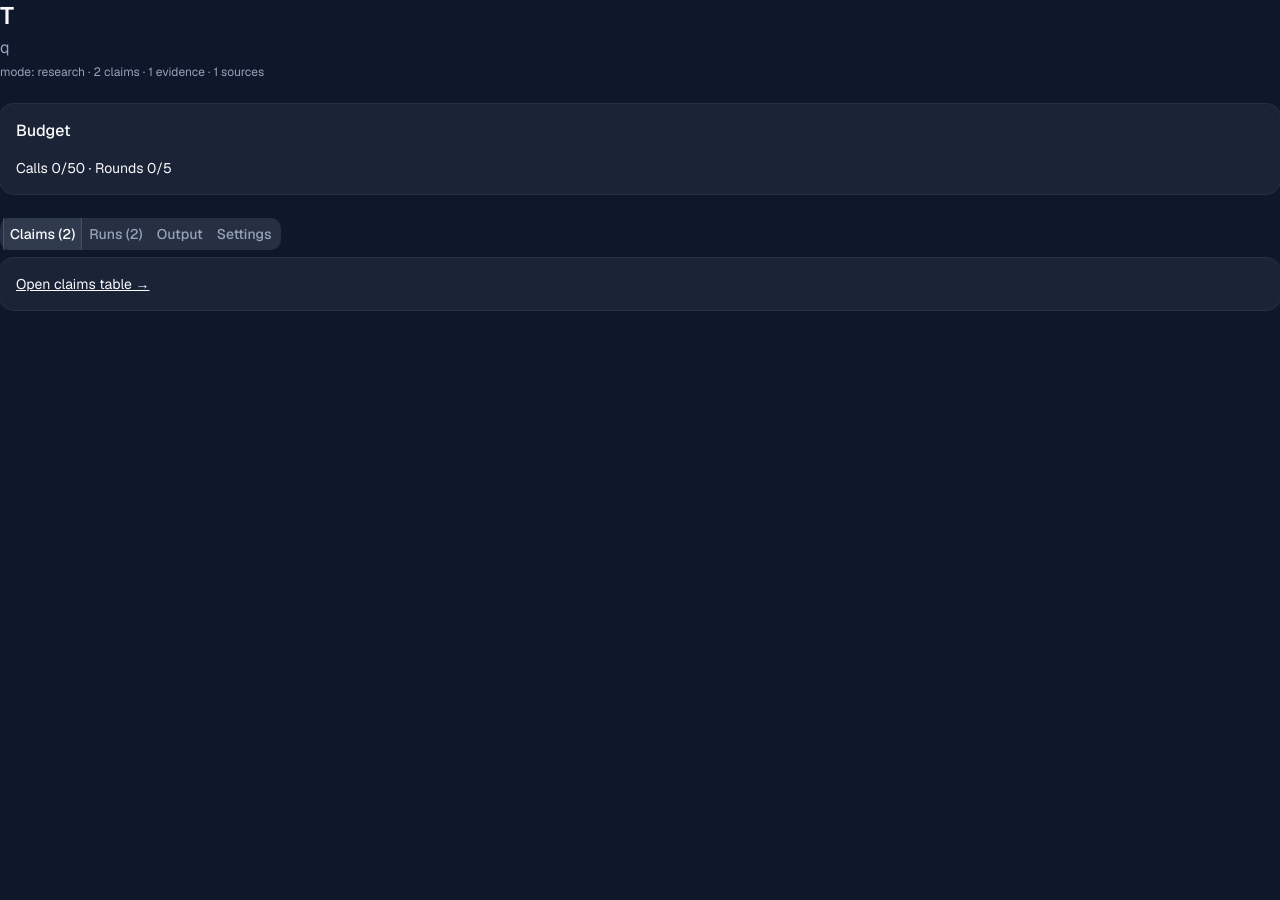
Test: LabOverview › settings tab prefills, saves, and surfaces refusal
This screenshot has width=1280, height=900.
Click the tab "Settings": [244, 234] box [210,212,278,256]
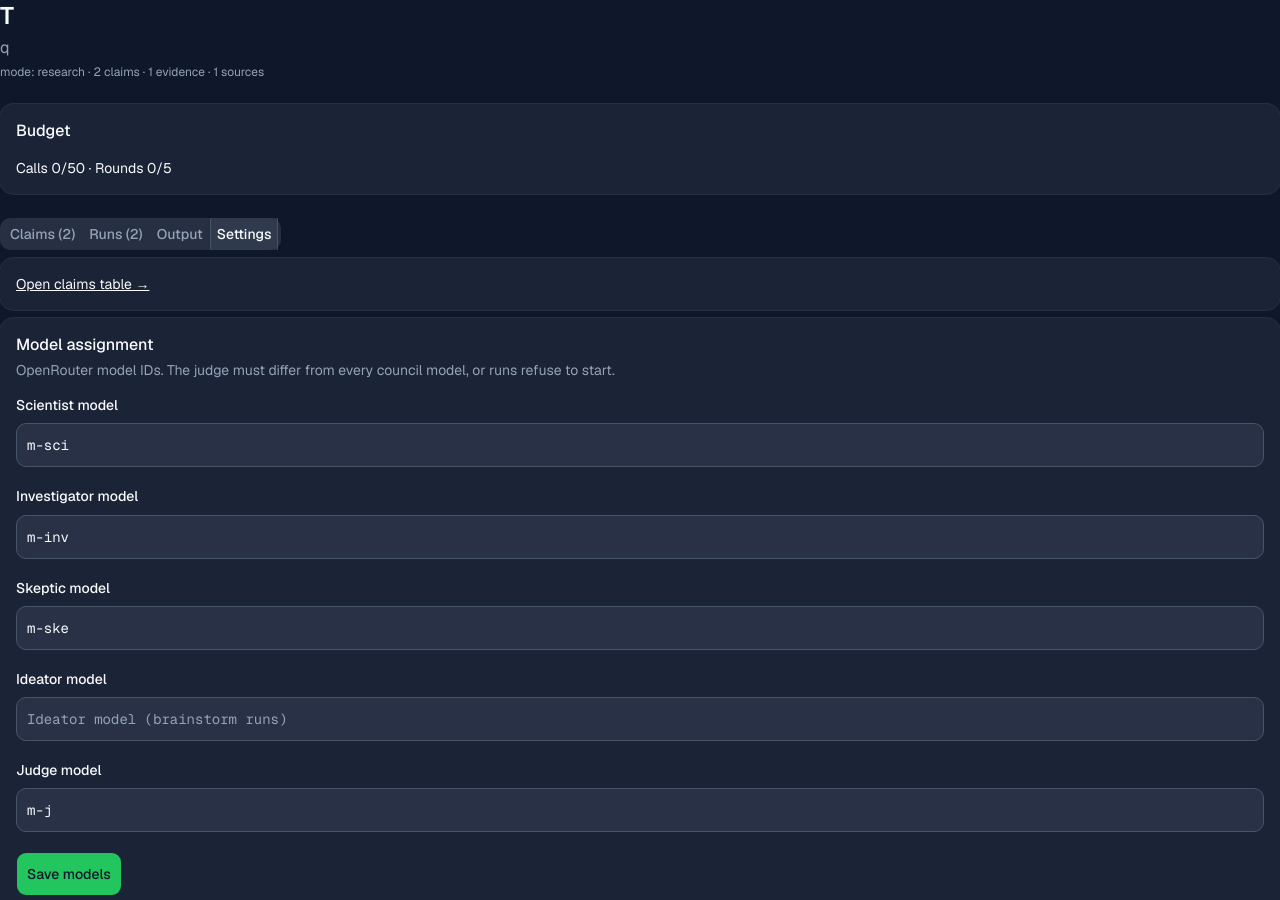
Check: the field with placeholder "Judge model (must differ)" holds "m-j", box [16,788,1264,832]
Check: the field with placeholder "Ideator model (brainstorm runs)" is shown, box [16,697,1264,741]
Click the button "Save models": [69, 874] box [16,852,122,896]
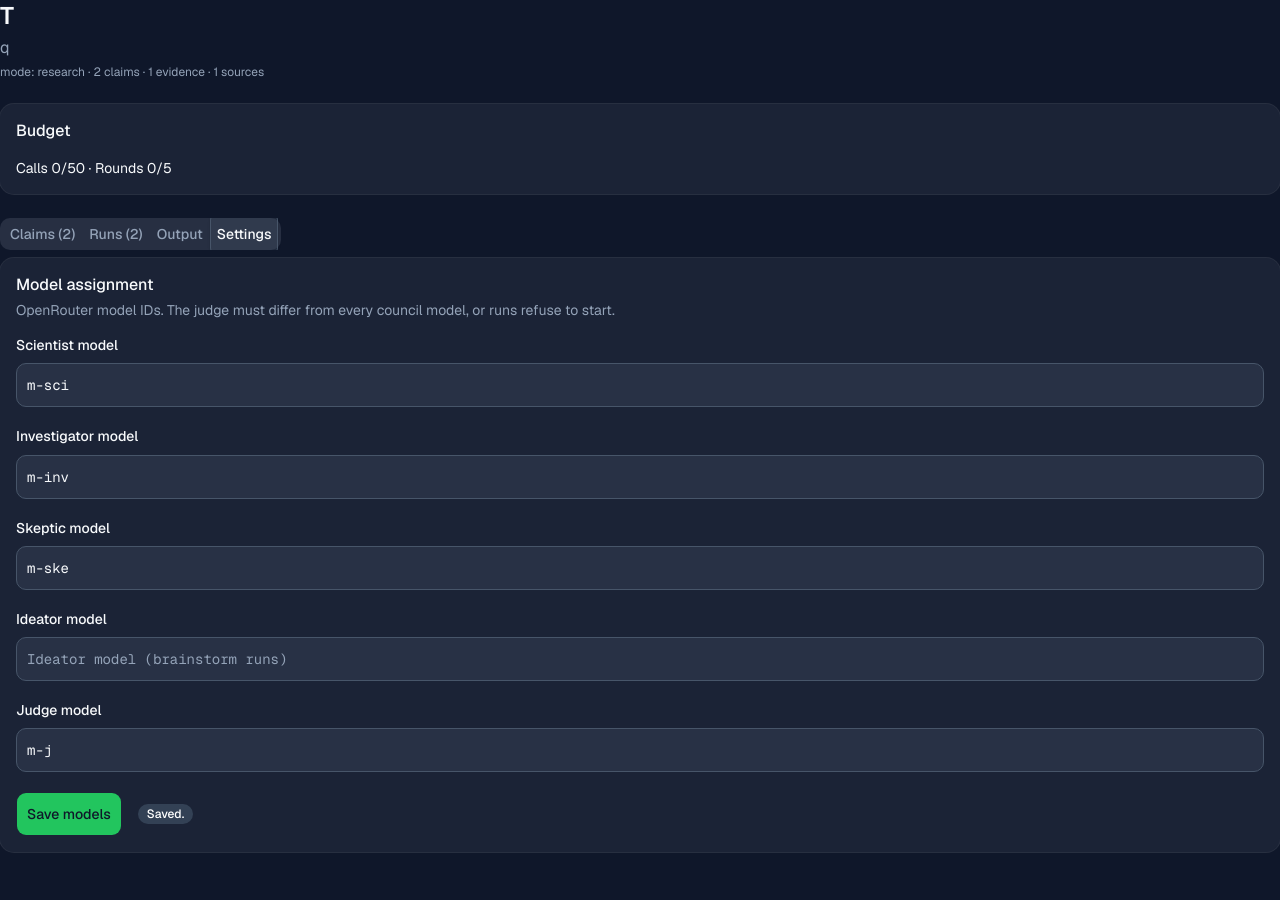
Check: the icon "Saved." is shown, box [138,804,193,824]
Replace the text in the field with placeholder "Judge model (must differ)" with "m-sci": [640, 750] box [16,728,1264,772]
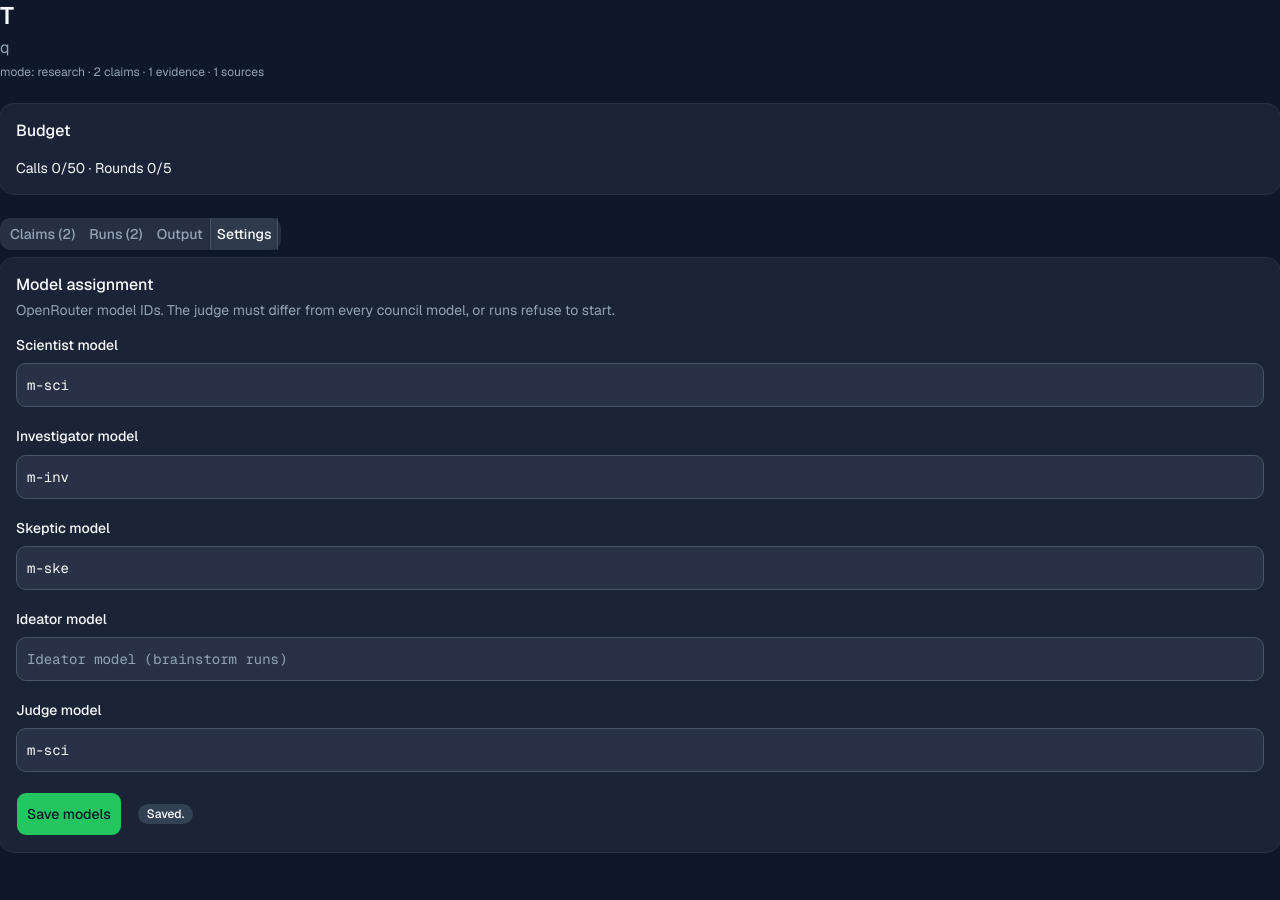
Click the button "Save models": [69, 814] box [16,792,122,836]
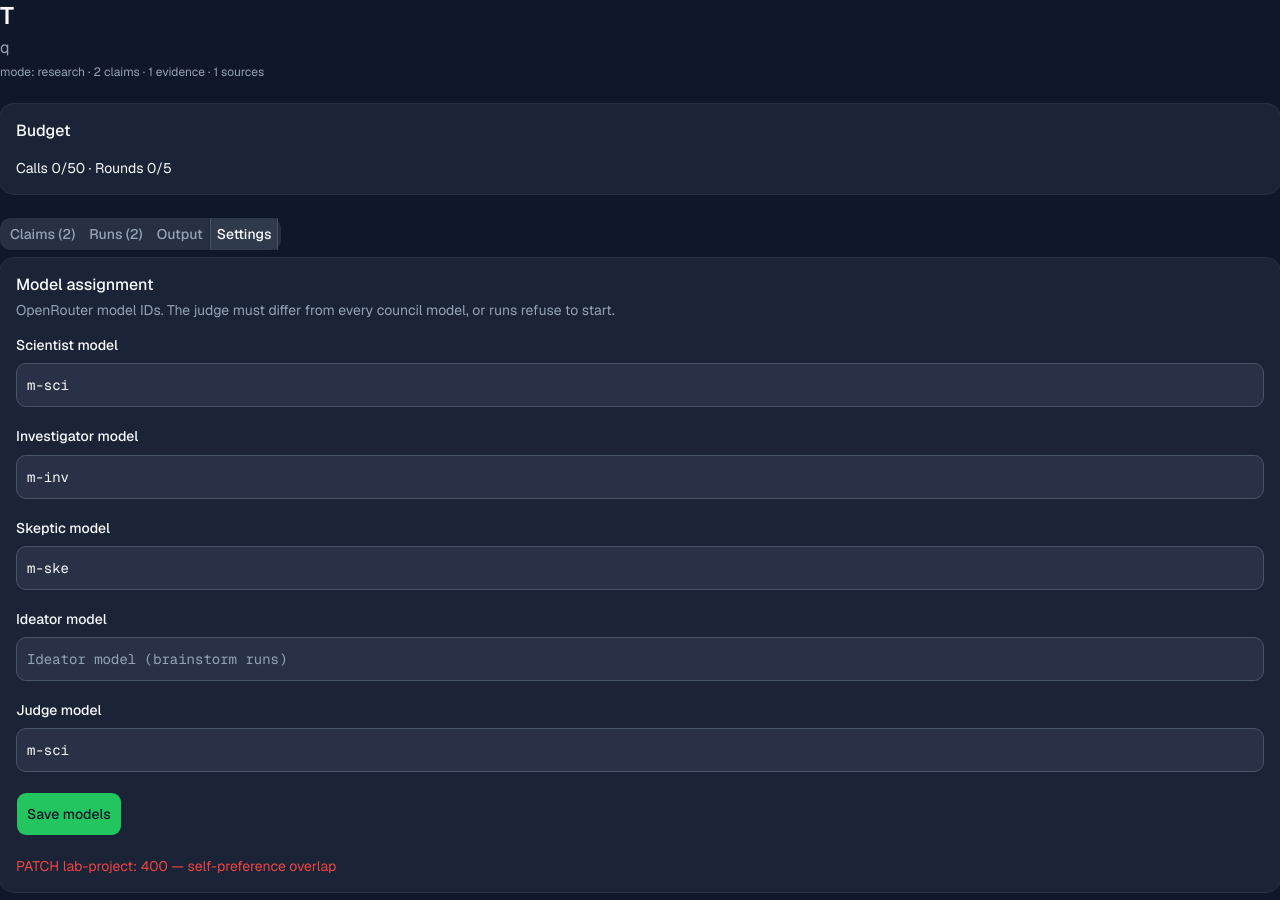
Check: the text "PATCH lab-project: 400 — self-preference overlap" is shown, box [16,857,336,875]
